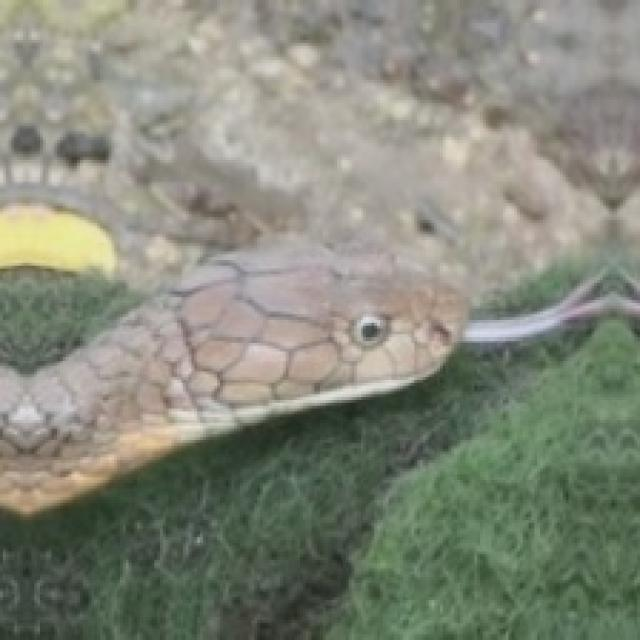king cobra: (0, 0, 637, 509)
